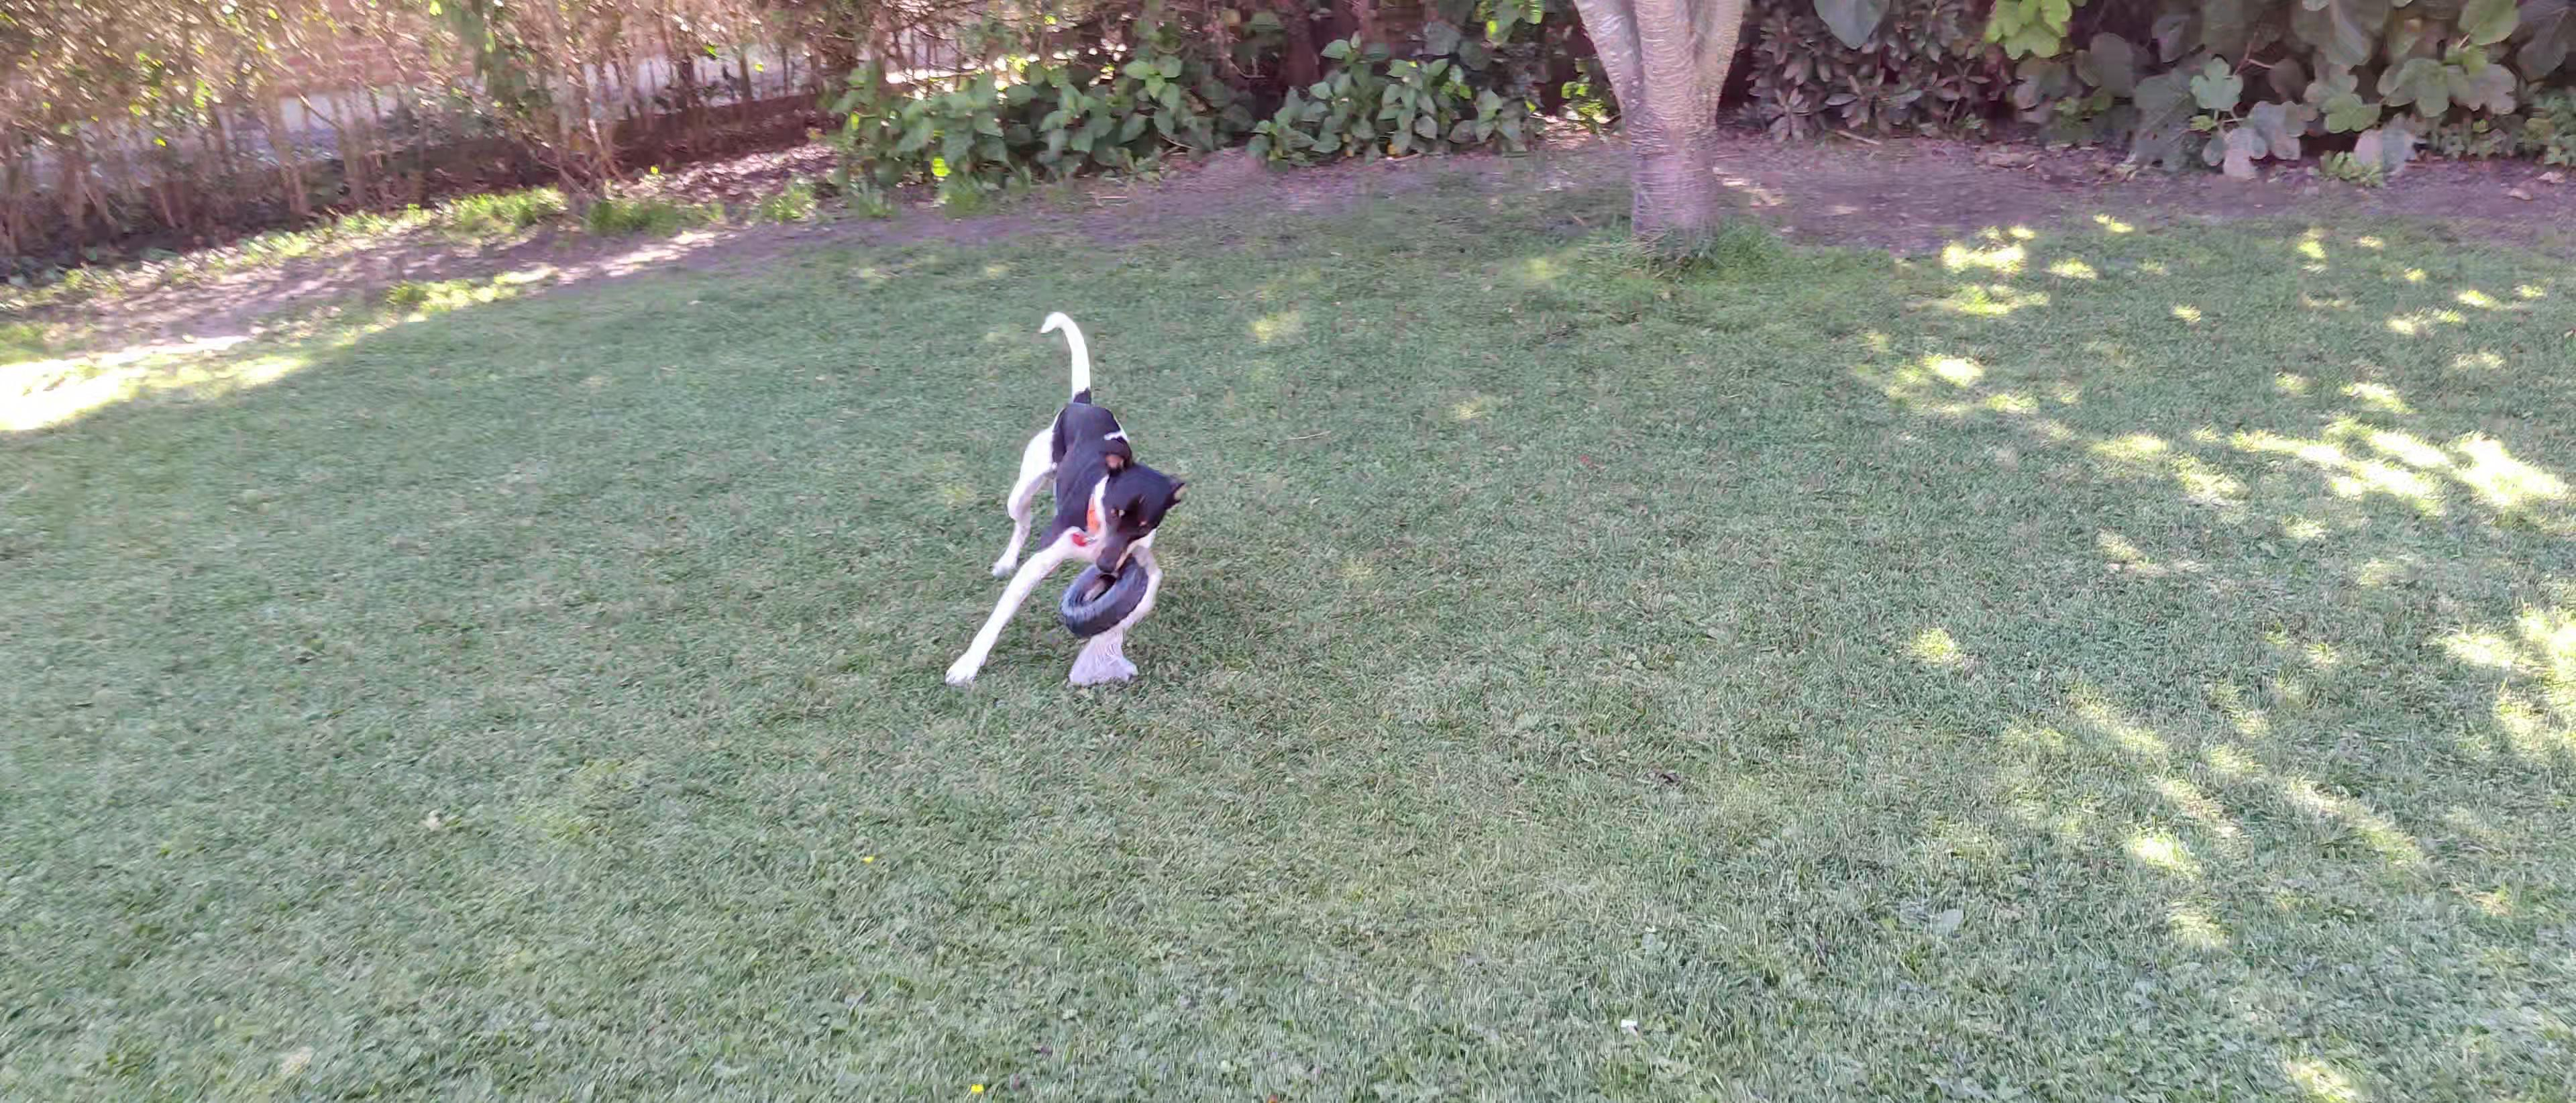Dog: (928, 309, 1207, 702)
